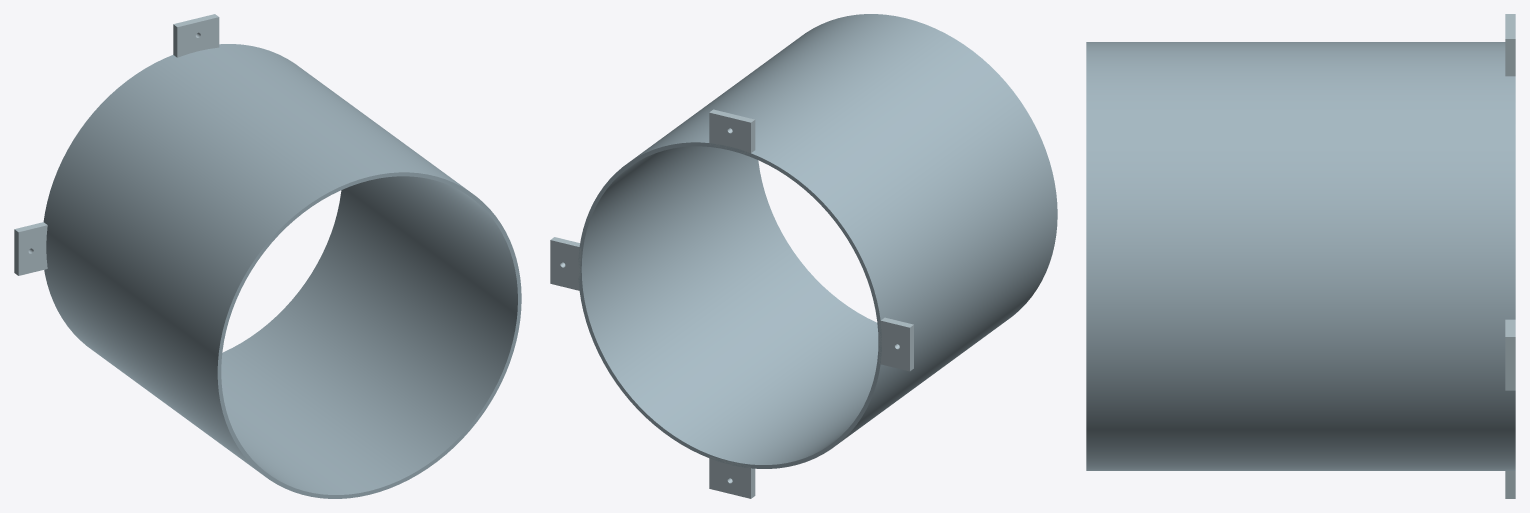
3 renders of one model, left to right at view 1: azimuth 30°, elevation 25°; view 2: azimuth 150°, elevation 25°; view 3: azimuth 270°, elevation 25°, orthographic. The views are drawn at different scales.
Parts seen in each view (by area): view 1: 本体_直筒段, 托耳_R2_带孔底板, 托耳_R3_带孔底板; view 2: 本体_直筒段, 托耳_R3_带孔底板, 托耳_R2_带孔底板, 托耳_R4_带孔底板, 托耳_R1_带孔底板; view 3: 本体_直筒段, 托耳_R1_带孔底板, 托耳_R2_带孔底板.
Boxes of the visible parts, <box> form: 本体_直筒段: <box>43,44,521,498</box>; 托耳_R2_带孔底板: <box>173,14,219,57</box>; 托耳_R3_带孔底板: <box>14,222,47,275</box>; 本体_直筒段: <box>578,14,1057,468</box>; 托耳_R3_带孔底板: <box>879,317,913,371</box>; 托耳_R2_带孔底板: <box>709,109,755,154</box>; 托耳_R4_带孔底板: <box>709,456,755,498</box>; 托耳_R1_带孔底板: <box>550,237,581,290</box>; 本体_直筒段: <box>1086,42,1515,470</box>; 托耳_R1_带孔底板: <box>1505,319,1515,390</box>; 托耳_R2_带孔底板: <box>1505,14,1515,76</box>.
Bounding box in the file's own units: 1.18 × 1.18 × 1.
